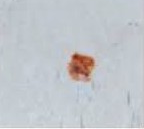Corrosion: (66, 50, 96, 84)
